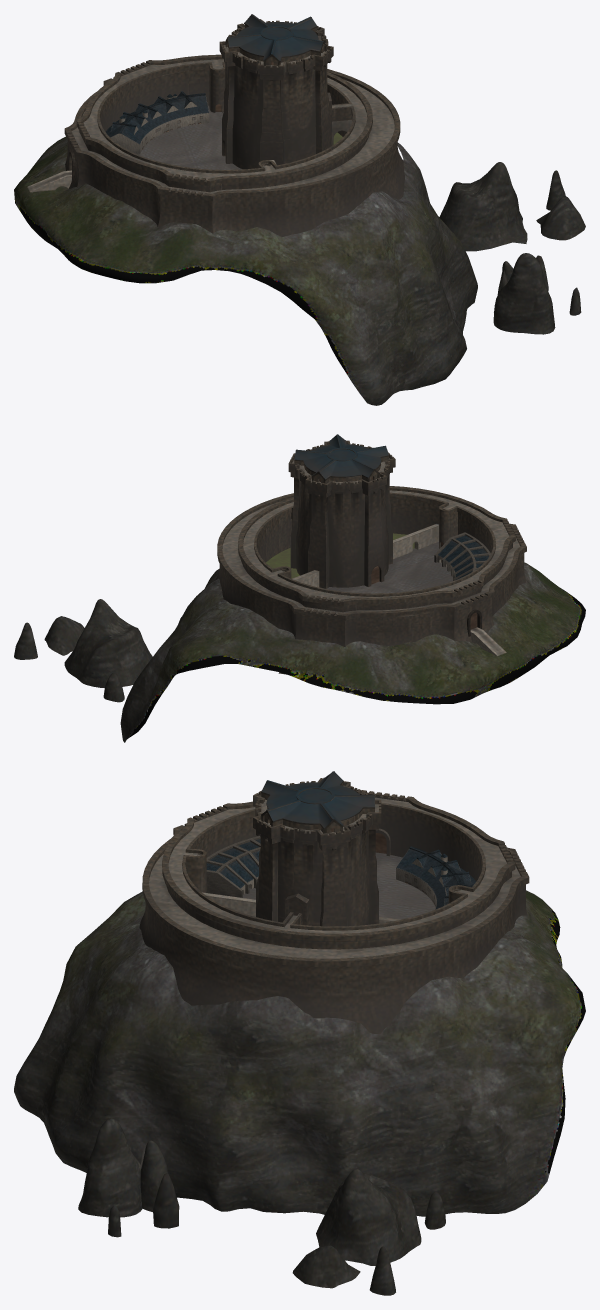
3 views of the same model, one above another, from view 1: azimuth 30°, elevation 25°; view 2: azimuth 150°, elevation 25°; view 3: azimuth 270°, elevation 25° (orthographic). The views are drawn at different scales.
Parts seen in each view (by area): view 1: landmark; view 2: landmark; view 3: landmark.
Boxes of the visible parts, box(x1,y1,x2,y2) form: landmark: box(14, 14, 585, 405); landmark: box(14, 434, 585, 742); landmark: box(14, 771, 585, 1295).
Size of the model in its own units: 99.95 by 49.58 by 77.32.
3 materials, 3 textured.
